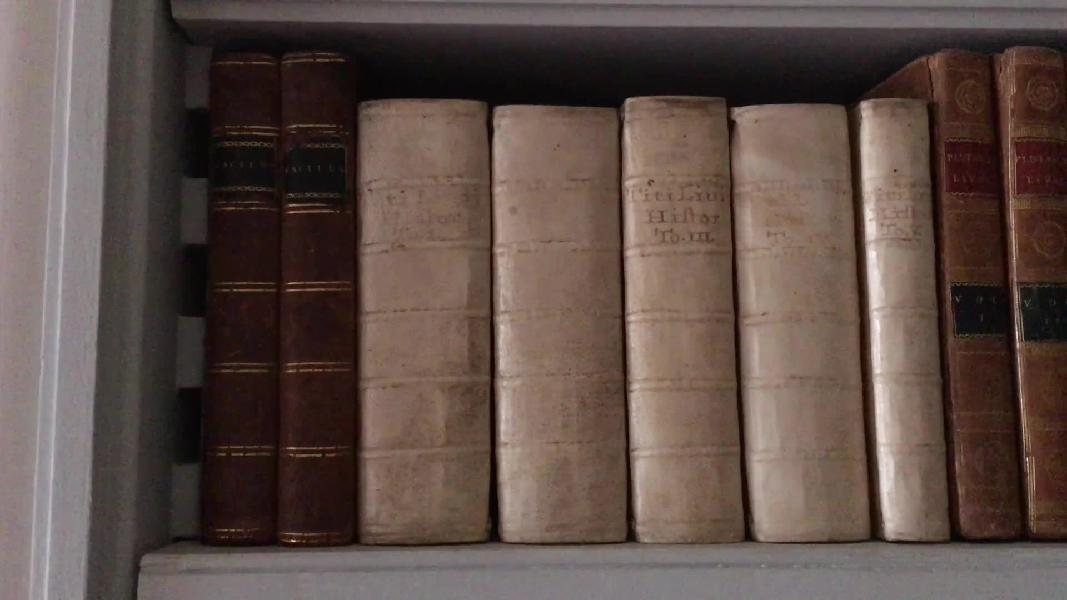Kk4-1_2: (197, 31, 365, 557)
Kk4-3_7: (346, 82, 966, 555)
